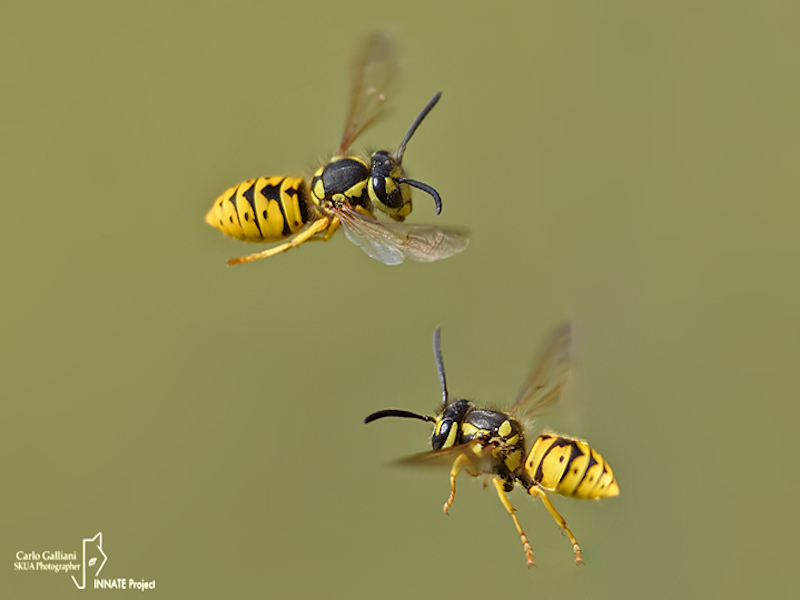chax: (319, 319, 685, 574), (189, 38, 501, 291)
